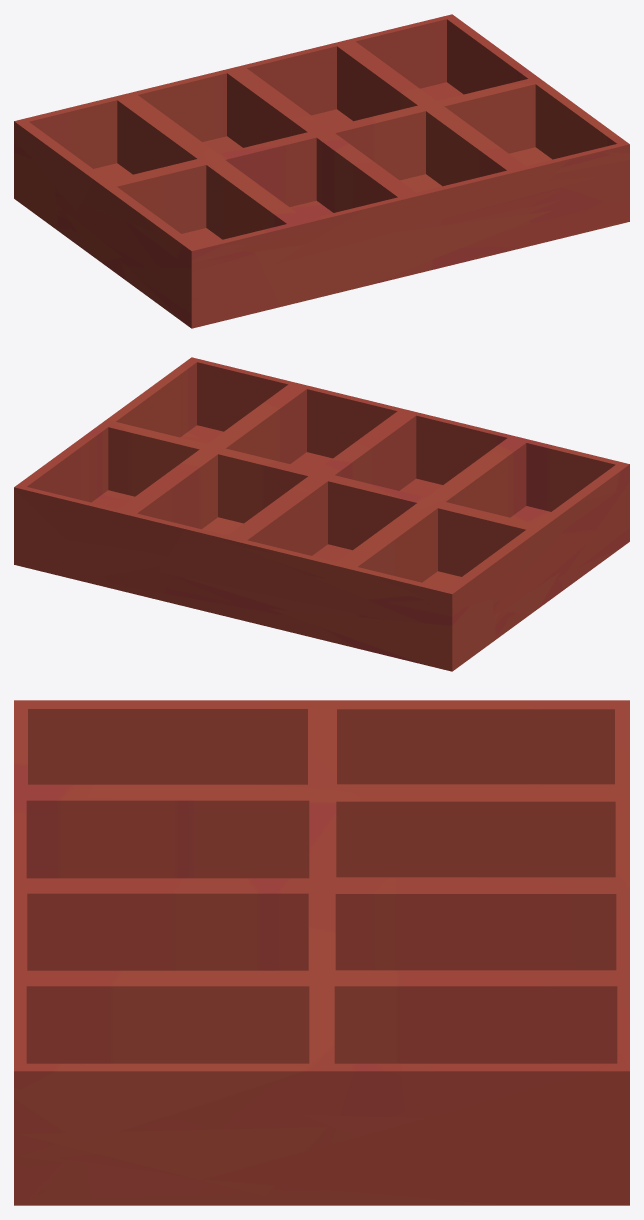
File: Container Stamps.fbx
3 views of the same model, one above another, from view 1: azimuth 30°, elevation 25°; view 2: azimuth 150°, elevation 25°; view 3: azimuth 270°, elevation 25° (orthographic). The views are drawn at different scales.
Parts seen in each view (by area): view 1: container; view 2: container; view 3: container.
Boxes of the visible parts, x1=… form: container: x1=14, y1=14, x2=629, y2=328; container: x1=14, y1=357, x2=629, y2=671; container: x1=14, y1=700, x2=629, y2=1205.
Size of the model in its own units: 285 by 48.11 by 200.
Materials: 1 (1 with a texture image).
